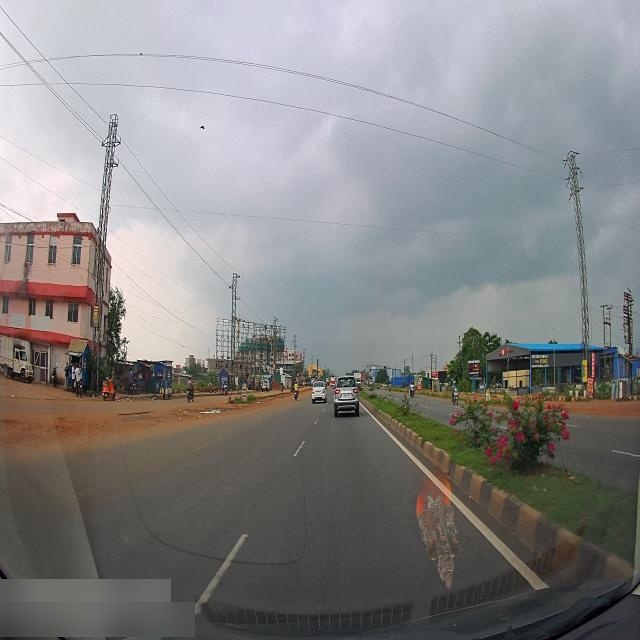pothole: (184, 399, 224, 425)
